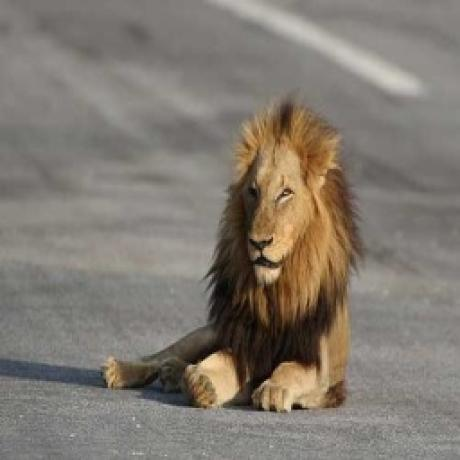Lion: (102, 96, 366, 417)
